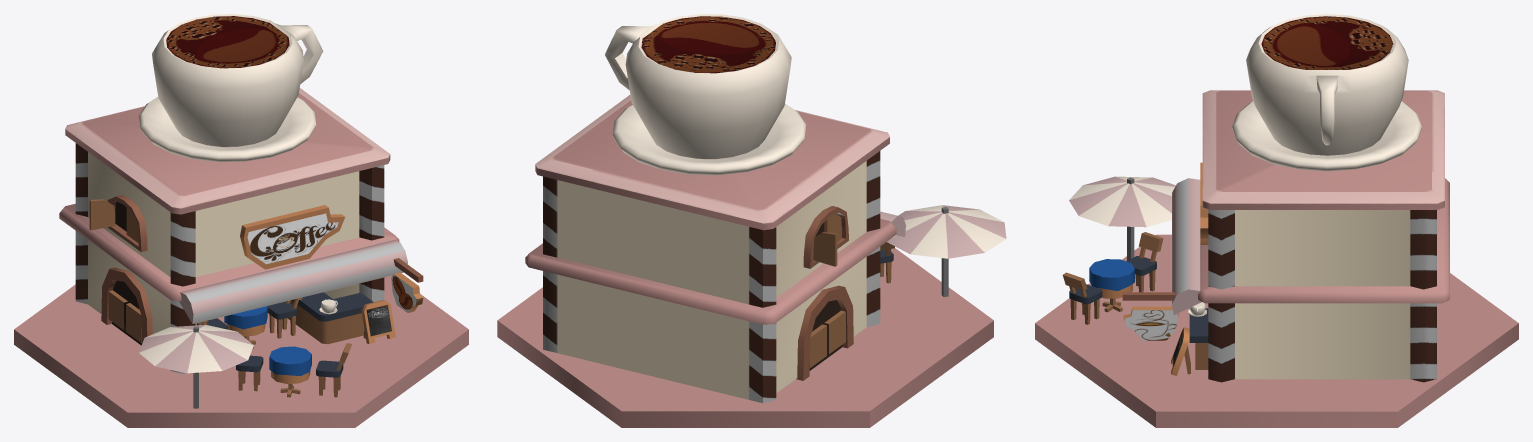
The model's file is HouseCafe.fbx.
3 views of the same model, side by side, from view 1: azimuth 30°, elevation 25°; view 2: azimuth 150°, elevation 25°; view 3: azimuth 270°, elevation 25° (orthographic). The views are drawn at different scales.
Visible parts, largest first — view 1: HouseCafe; view 2: HouseCafe; view 3: HouseCafe.
Part boxes in pixels (<box>): HouseCafe: <box>14,14,468,427</box>; HouseCafe: <box>497,14,1006,427</box>; HouseCafe: <box>1035,14,1518,427</box>.
Bounding box in the file's own units: 478 × 381 × 552.
Materials: 1 (1 with a texture image).
